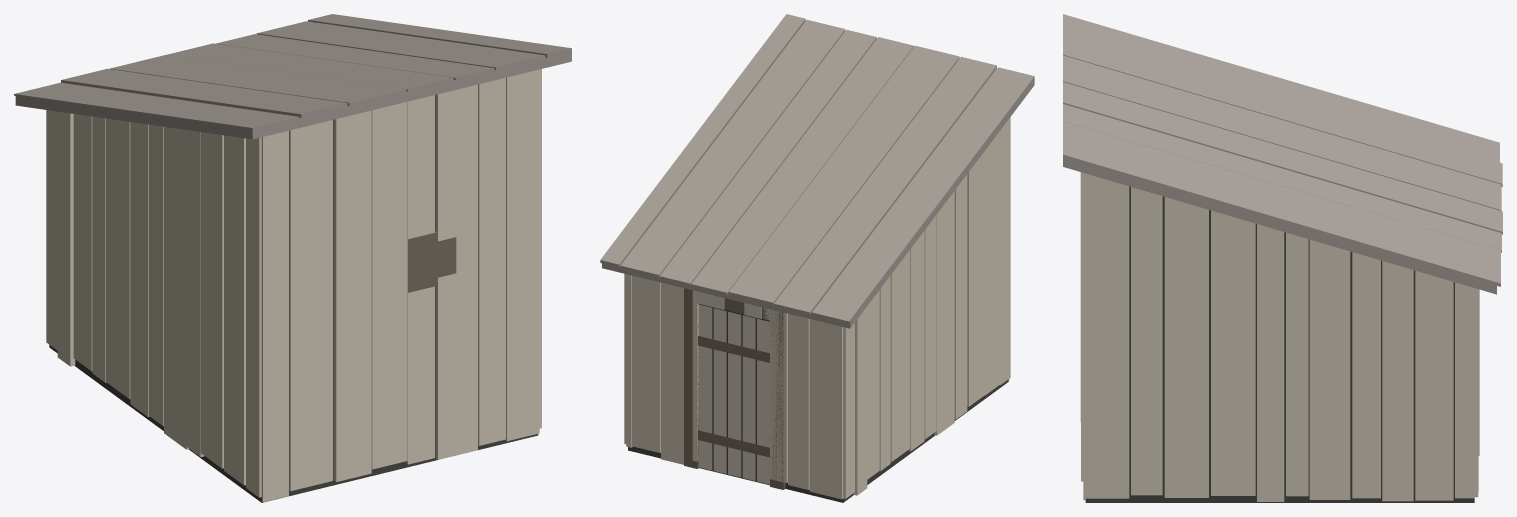
Rendered from recon_1835_north_a5_011__inferred_1835.glb.
3 views of the same model, side by side, from view 1: azimuth 30°, elevation 25°; view 2: azimuth 150°, elevation 25°; view 3: azimuth 270°, elevation 25° (orthographic). The views are drawn at different scales.
Parts seen in each view (by area): view 1: recon_1835_north_a5_011__inferred_1835; view 2: recon_1835_north_a5_011__inferred_1835; view 3: recon_1835_north_a5_011__inferred_1835.
Part boxes in pixels (x1=…): recon_1835_north_a5_011__inferred_1835: x1=14, y1=14, x2=571, y2=502; recon_1835_north_a5_011__inferred_1835: x1=600, y1=14, x2=1034, y2=502; recon_1835_north_a5_011__inferred_1835: x1=1063, y1=14, x2=1502, y2=502.
Bounding box in the file's own units: 2.94 × 3.45 × 3.84.
